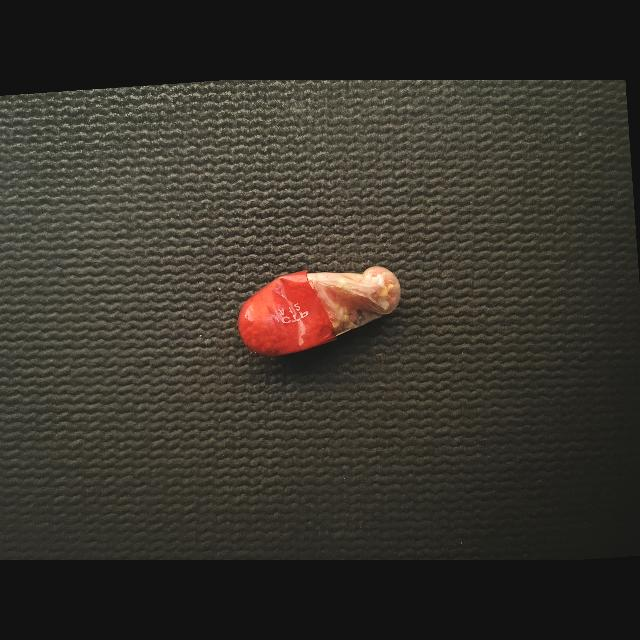Defective Capsule: (238, 266, 401, 356)
